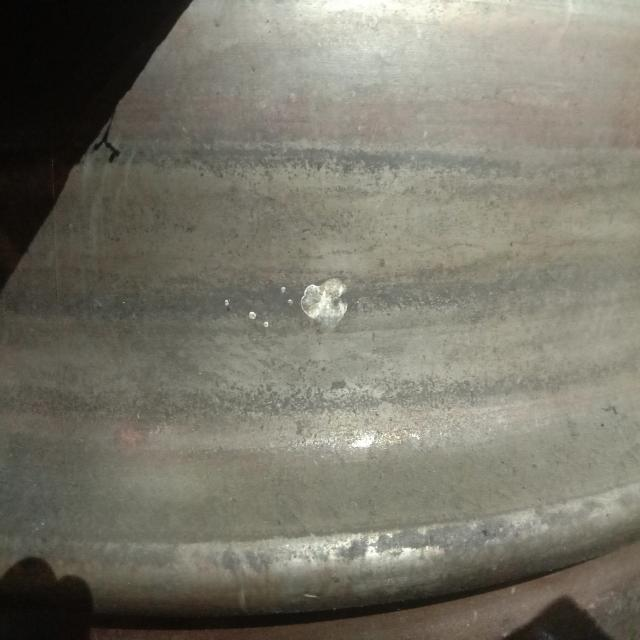Peeling: (226, 278, 350, 329)
